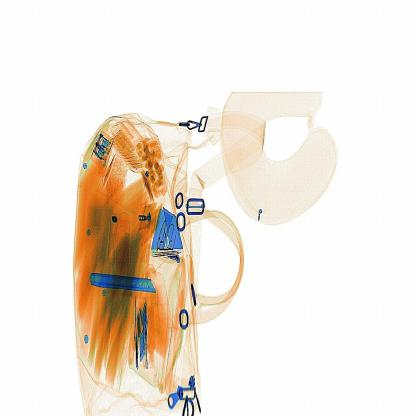pliers: (85, 269, 161, 299)
